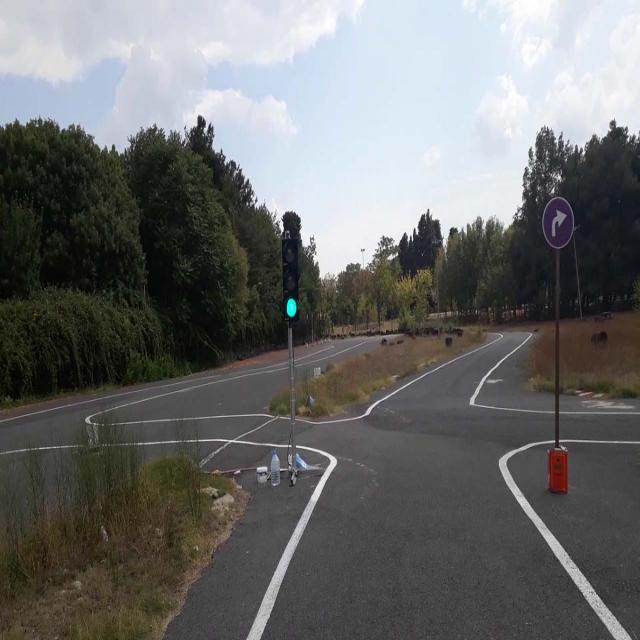sag: (544, 196, 574, 251)
yesil: (283, 238, 297, 321)
